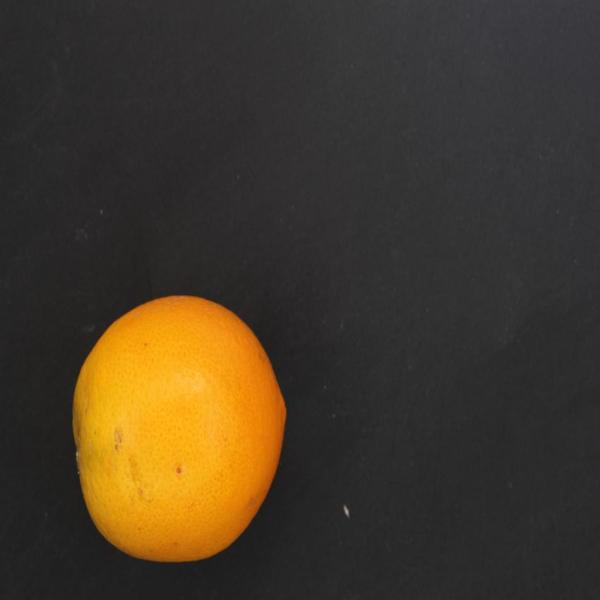Sana: (64, 280, 298, 568)
